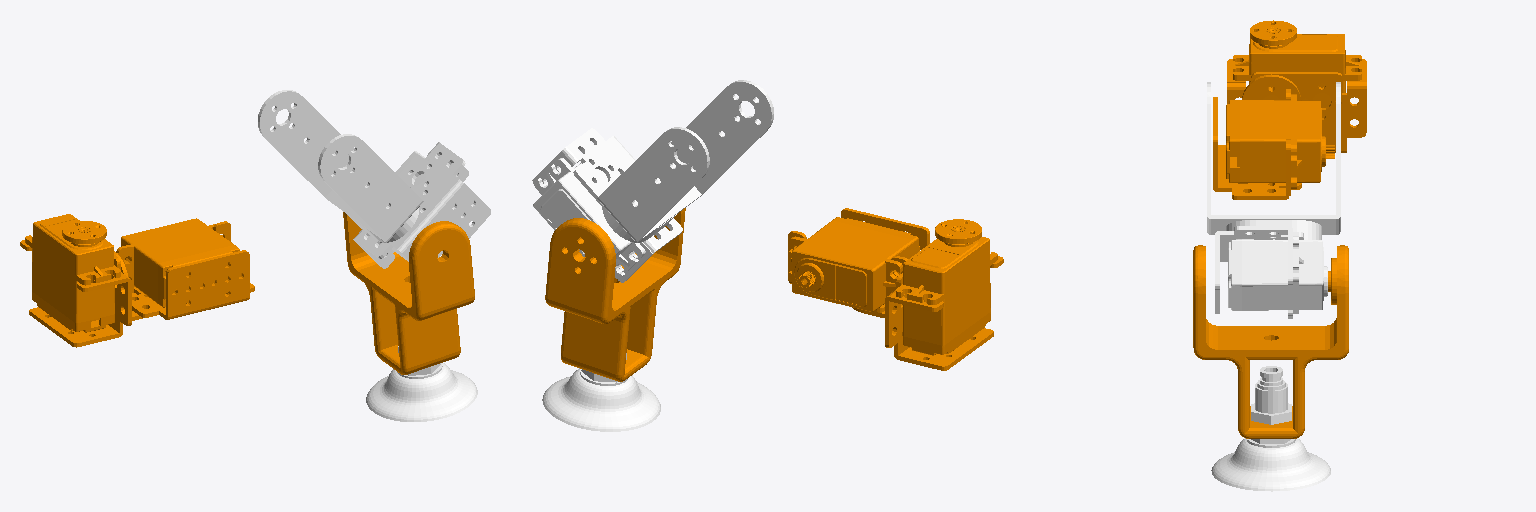
robot.urdf — Leg:
<?xml version="1.0" encoding="utf-8"?>
<robot name="Leg">
  <!-- 原有的链接和关节定义保持不变 -->
  <link name="base_link">
    <inertial>
      <origin xyz="0.0254120573607428 0.0037085997756181 -0.000876996370279701" rpy="0 0 0" />
      <mass value="0.0401565735863501" />
      <inertia ixx="7.78992877425675E-06" ixy="-3.92466354425547E-08" ixz="-2.69869430355554E-08" iyy="7.62922802861573E-06" iyz="1.94603362326273E-07" izz="1.04986610025575E-05" />
    </inertial>
    <visual>
      <origin xyz="0 0 0" rpy="0 0 0" />
      <geometry>
        <mesh filename="package://Leg/meshes/base_link.STL" />
      </geometry>
      <material name="">
        <color rgba="1 0.6 0 1" />
      </material>
    </visual>
    <collision>
      <origin xyz="0 0 0" rpy="0 0 0" />
      <geometry>
        <mesh filename="package://Leg/meshes/base_link.STL" />
      </geometry>
    </collision>
  </link>

  <link name="Leg_1">
    <inertial>
      <origin xyz="0.0413141720640879 0.0392213512107975 -1.67091232394778E-05" rpy="0 0 0" />
      <mass value="0.0348772518340809" />
      <inertia ixx="1.12546320349194E-05" ixy="3.42894274420889E-07" ixz="-1.05210832978556E-07" iyy="1.10970774797363E-05" iyz="-1.25733578572643E-07" izz="8.63638613604392E-06" />
    </inertial>
    <visual>
      <origin xyz="0 0 0" rpy="0 0 0" />
      <geometry>
        <mesh filename="package://Leg/meshes/Leg_1.STL" />
      </geometry>
      <material name="">
        <color rgba="1 1 1 1" />
      </material>
    </visual>
    <collision>
      <origin xyz="0 0 0" rpy="0 0 0" />
      <geometry>
        <mesh filename="package://Leg/meshes/Leg_1.STL" />
      </geometry>
    </collision>
  </link>
  <joint name="joint_Leg_1" type="continuous">
    <origin xyz="0.0597500000061466 -0.000300000023835567 0" rpy="1.57079632679481 0 0" />
    <parent link="base_link" />
    <child link="Leg_1" />
    <axis xyz="0 0 -1" />
  </joint>

  <link name="Leg_2">
    <inertial>
      <origin xyz="0.00800260485368348 -0.0575720154976572 2.60433793963788E-05" rpy="0 0 0" />
      <mass value="0.0341924935893875" />
      <inertia ixx="1.08076301002068E-05" ixy="-3.37090278552172E-08" ixz="-4.04849882290978E-08" iyy="1.15080469221478E-05" iyz="1.58868804977837E-07" izz="8.60133850008366E-06" />
    </inertial>
    <visual>
      <origin xyz="0 0 0" rpy="0 0 0" />
      <geometry>
        <mesh filename="package://Leg/meshes/Leg_2.STL" />
      </geometry>
      <material name="">
        <color rgba="1 1 1 1" />
      </material>
    </visual>
    <collision>
      <origin xyz="0 0 0" rpy="0 0 0" />
      <geometry>
        <mesh filename="package://Leg/meshes/Leg_2.STL" />
      </geometry>
    </collision>
  </link>
  <joint name="joint_Leg2" type="continuous">
    <origin xyz="0.0577581550895658 0.0454566609036277 0" rpy="0 0 0.663372961127232" />
    <parent link="Leg_1" />
    <child link="Leg_2" />
    <axis xyz="0 0 -1" />
  </joint>

  <link name="Leg_3">
    <inertial>
      <origin xyz="0.0231331387405495 -0.0161514626865717 0.000159937465486593" rpy="0 0 0" />
      <mass value="0.0326833686767767" />
      <inertia ixx="1.98411185421025E-05" ixy="4.84522416010957E-06" ixz="1.20612382758159E-07" iyy="2.33978349979187E-05" iyz="-8.42077053664508E-08" izz="1.50695085596818E-05" />
    </inertial>
    <visual>
      <origin xyz="0 0 0" rpy="0 0 0" />
      <geometry>
        <mesh filename="package://Leg/meshes/Leg_3.STL" />
      </geometry>
      <material name="">
        <color rgba="1 0.6 0 1" />
      </material>
    </visual>
    <collision>
      <origin xyz="0 0 0" rpy="0 0 0" />
      <geometry>
        <mesh filename="package://Leg/meshes/Leg_3.STL" />
      </geometry>
    </collision>
  </link>
  <joint name="joint_Leg_3" type="continuous">
    <origin xyz="0.00360534059696155 -0.0734153527484506 0" rpy="0 0 -1.53193066559565" />
    <parent link="Leg_2" />
    <child link="Leg_3" />
    <axis xyz="0 0 1" />
  </joint>

  <link name="Leg_4">
    <inertial>
      <origin xyz="-0.010383248599432 -2.04562672356801E-10 -1.6748713305148E-08" rpy="0 0 0" />
      <mass value="0.0180361186796444" />
      <inertia ixx="2.7025306670337E-06" ixy="-2.39045198939363E-12" ixz="1.24857653360103E-11" iyy="3.16197742555103E-06" iyz="7.67463061587718E-13" izz="3.16197793559145E-06" />
    </inertial>
    <visual>
      <origin xyz="0 0 0" rpy="0 0 0" />
      <geometry>
        <mesh filename="package://Leg/meshes/Leg_4.STL" />
      </geometry>
      <material name="">
        <color rgba="1 1 1 1" />
      </material>
    </visual>
    <collision>
      <origin xyz="0 0 0" rpy="0 0 0" />
      <geometry>
        <mesh filename="package://Leg/meshes/Leg_4.STL" />
      </geometry>
    </collision>
  </link>
  <joint name="joint_Leg_4" type="continuous">
    <origin xyz="0.0688738806150996 -0.0480873015395301 0.000550000047700117" rpy="0 0 -0.609512575399806" />
    <parent link="Leg_3" />
    <child link="Leg_4" />
    <axis xyz="-1 0 0" />
  </joint>

  <!-- 虚拟世界链接，用于固定机械臂（只定义一次） -->
  <link name="world"/>

  <!-- 固定关节：将 base_link 连接到 world -->
  <joint name="world_to_base" type="fixed">
    <parent link="world"/>
    <child link="base_link"/>
    <origin xyz="0 0 1" rpy="0 0 0"/>
  </joint>

  <!-- 让 world 链接静止（不受重力影响） -->
  <gazebo reference="world">
    <gravity>false</gravity>
    <static>true</static>
  </gazebo>

  <!-- ========== ros2_control 配置（使用真正的 Gazebo 插件） ========== -->
  <ros2_control name="GazeboSystem" type="system">
    <hardware>
      <plugin>gz_ros2_control/GazeboSimSystem</plugin>
    </hardware>

    <joint name="joint_Leg_1">
      <command_interface name="position"/>
      <state_interface name="position"/>
      <state_interface name="velocity"/>
    </joint>

    <joint name="joint_Leg2">
      <command_interface name="position"/>
      <state_interface name="position"/>
      <state_interface name="velocity"/>
    </joint>

    <joint name="joint_Leg_3">
      <command_interface name="position"/>
      <state_interface name="position"/>
      <state_interface name="velocity"/>
    </joint>

    <joint name="joint_Leg_4">
      <command_interface name="position"/>
      <state_interface name="position"/>
      <state_interface name="velocity"/>
    </joint>
  </ros2_control>



  <!-- Gazebo 插件：加载 ros2_control -->
  <gazebo>
    <plugin filename="gz_ros2_control-system" name="gz_ros2_control::GazeboSimROS2ControlPlugin">
      <parameters>/home/rasp/Desktop/Leg/config/leg_controllers.yaml</parameters>
    </plugin>
  </gazebo>

</robot>

--- Facts derived from the render (not from the file) ---
Views: 3 orthographic renders of the robot side by side, from view 1: azimuth 30°, elevation 25°; view 2: azimuth 150°, elevation 25°; view 3: azimuth 270°, elevation 25°.
Model Leg with 6 links and 5 joints (4 continuous, 1 fixed), rooted at world, posed all joints at 0.
Links seen in each view (by area): view 1: base_link, Leg_2, Leg_3, Leg_4; view 2: base_link, Leg_2, Leg_3, Leg_4; view 3: base_link, Leg_2, Leg_3, Leg_4.
Boxes of the visible links, left/top/right/bottom form: base_link: left=20, top=214, right=254, bottom=347; Leg_2: left=258, top=90, right=490, bottom=268; Leg_3: left=343, top=212, right=474, bottom=374; Leg_4: left=366, top=346, right=477, bottom=421; base_link: left=788, top=208, right=1003, bottom=370; Leg_2: left=532, top=80, right=773, bottom=282; Leg_3: left=545, top=208, right=685, bottom=381; Leg_4: left=542, top=353, right=660, bottom=431; base_link: left=1213, top=20, right=1366, bottom=199; Leg_2: left=1207, top=82, right=1340, bottom=318; Leg_3: left=1193, top=245, right=1348, bottom=438; Leg_4: left=1211, top=366, right=1330, bottom=491.
Size in the robot's own frame: 0.2132 by 0.0721 by 0.154 metres.
4 mesh visuals loaded from 5 distinct referenced files (4 binary STL); not drawn: 1 (file found but could not be loaded).
